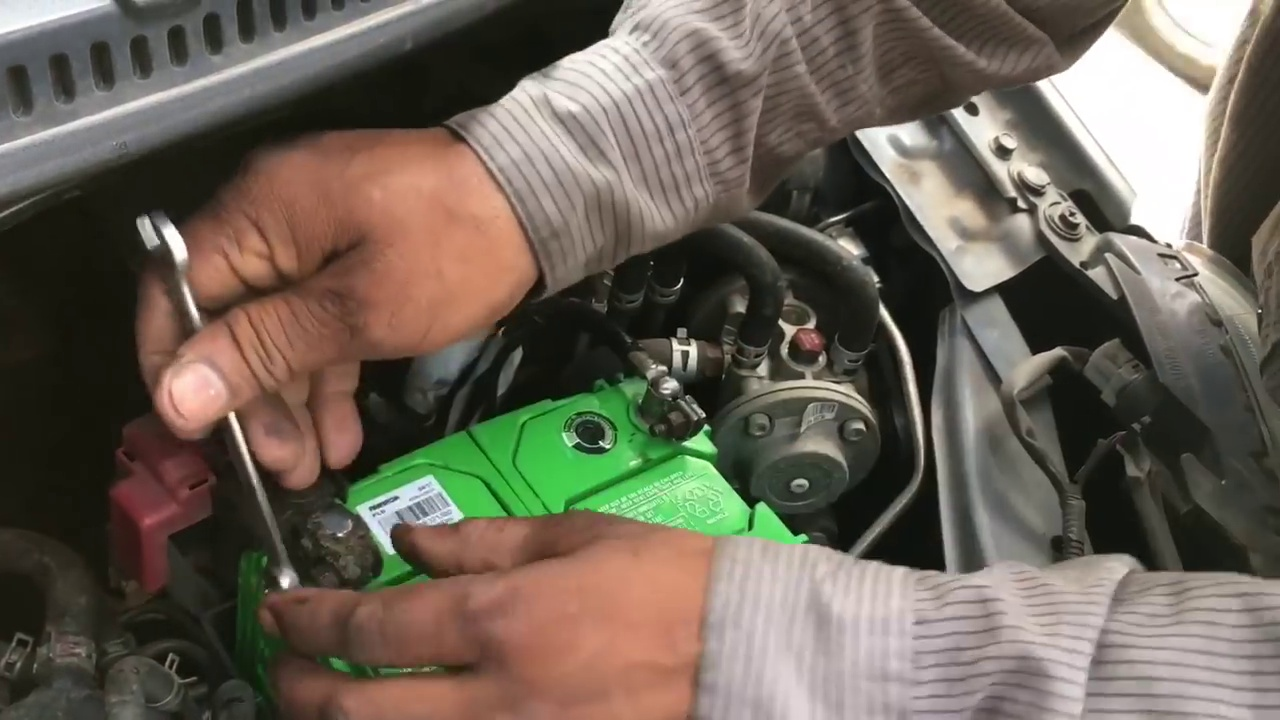battery: (243, 369, 812, 587)
neg_connected: (592, 317, 721, 458)
pos_touched: (115, 389, 434, 651)
